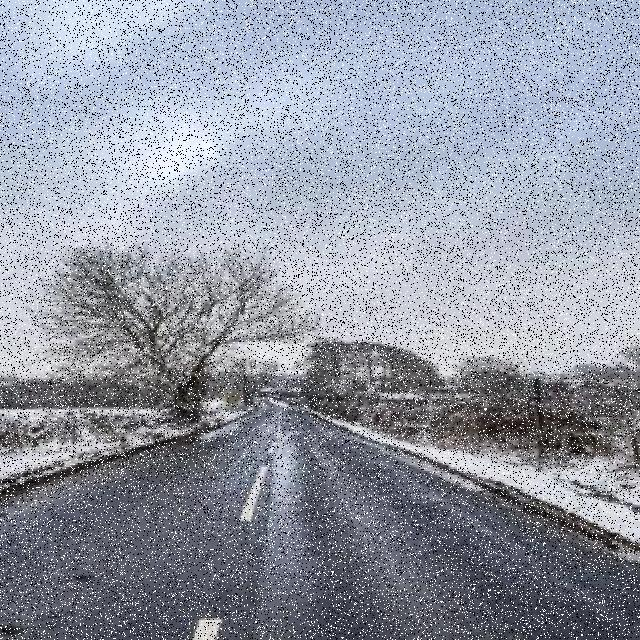ice-road: (0, 405, 640, 640)
